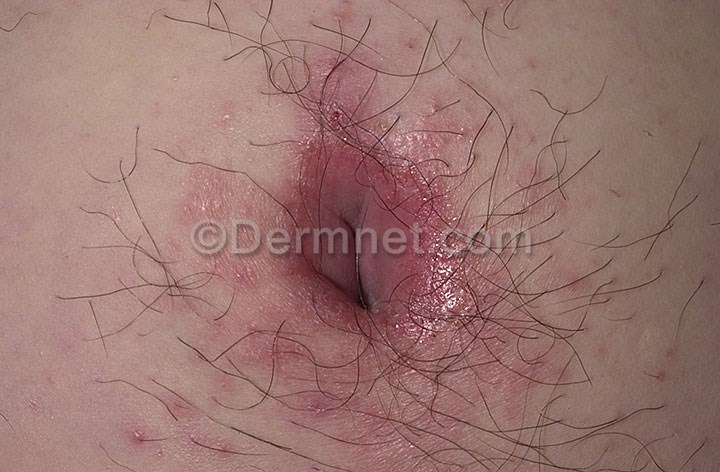Psoriasis: (221, 67, 500, 355)
